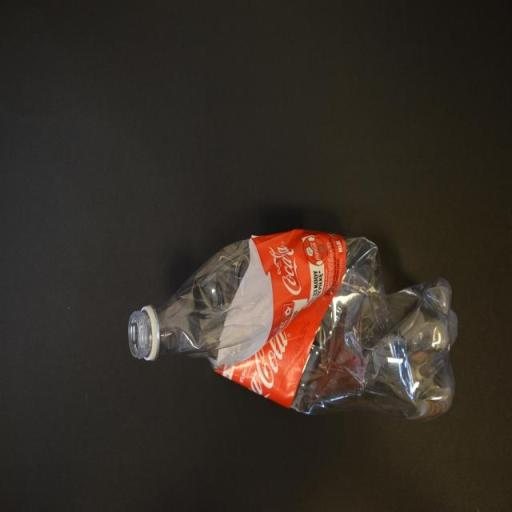plastic: (127, 228, 458, 420)
